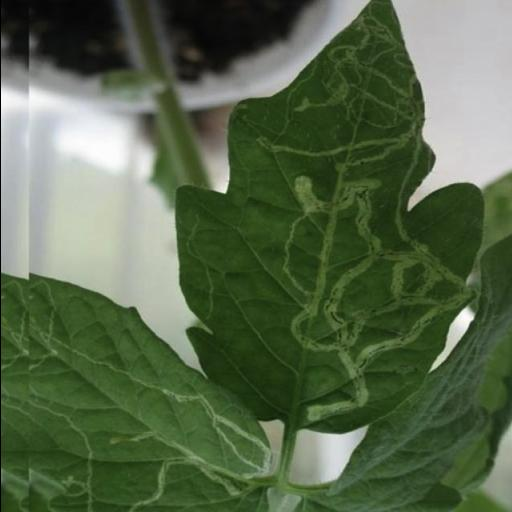disease_tomato: (172, 0, 486, 435), (0, 275, 295, 512)
